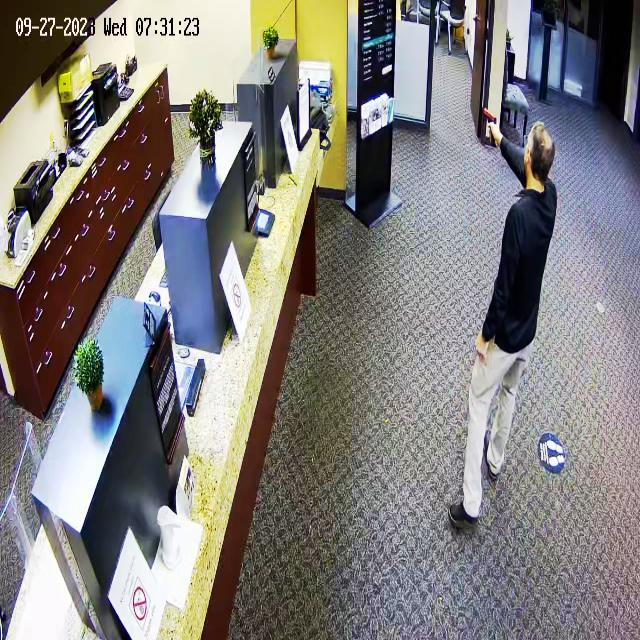Gun: (470, 100, 511, 149)
